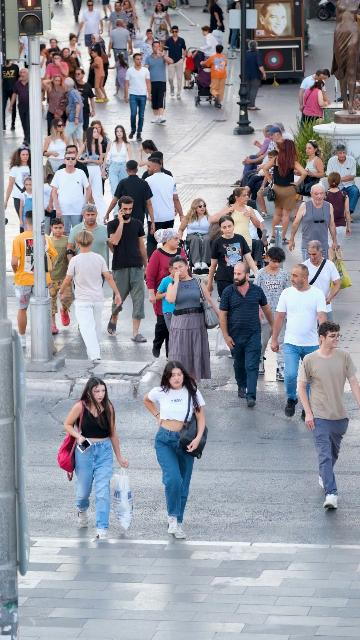person: (296, 320, 360, 509), (60, 377, 130, 540), (143, 362, 206, 539), (269, 264, 328, 417), (56, 231, 122, 362), (217, 262, 275, 408), (165, 255, 220, 383), (11, 211, 57, 354), (107, 196, 148, 342), (145, 227, 190, 358), (253, 246, 294, 382), (263, 138, 308, 245), (206, 216, 258, 299), (210, 187, 267, 262), (287, 183, 338, 263), (104, 159, 156, 237), (144, 158, 187, 250), (297, 240, 340, 328), (48, 152, 92, 236), (46, 218, 74, 335), (66, 204, 108, 282), (75, 126, 107, 224), (268, 135, 295, 244), (178, 199, 218, 271), (232, 150, 278, 210), (141, 42, 174, 124), (101, 125, 133, 209), (231, 125, 273, 187), (123, 53, 152, 142), (327, 145, 359, 223), (3, 146, 32, 231), (323, 173, 352, 239), (41, 74, 72, 135), (244, 126, 283, 174), (19, 177, 51, 234), (42, 118, 70, 183), (163, 25, 187, 100), (200, 44, 228, 107), (76, 0, 104, 58), (301, 81, 331, 135), (72, 67, 96, 133), (64, 77, 85, 152), (245, 40, 267, 111), (298, 69, 330, 113), (108, 19, 133, 75), (155, 266, 176, 332), (302, 140, 325, 200), (92, 120, 110, 195), (2, 59, 19, 131), (105, 52, 129, 99), (57, 145, 90, 179), (90, 48, 109, 103), (191, 25, 219, 61), (142, 151, 174, 181), (120, 0, 139, 42), (137, 140, 164, 168), (107, 1, 128, 37), (45, 52, 69, 81), (183, 48, 199, 89), (90, 34, 108, 70), (139, 29, 154, 66), (68, 33, 82, 69), (40, 44, 48, 75), (88, 61, 95, 86), (49, 38, 60, 51)
